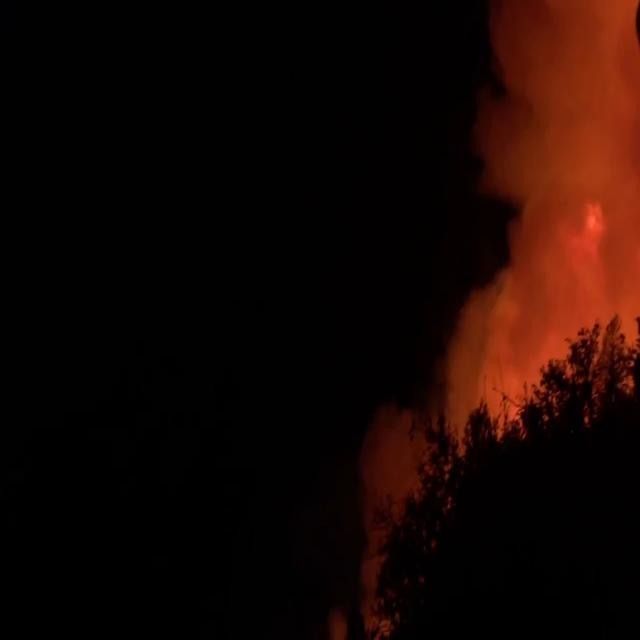Fire: (351, 0, 640, 634)
